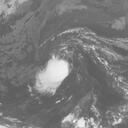cyclone: (35, 59, 72, 95)
